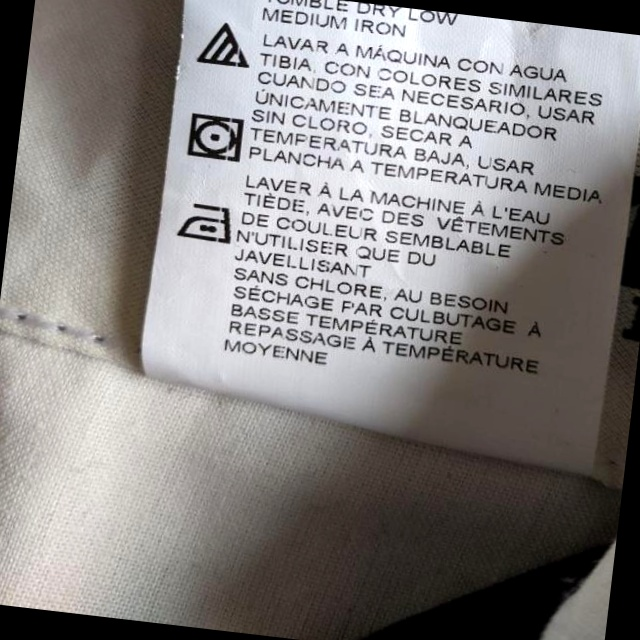iron_medium: (179, 197, 239, 246)
non_chlorine_bleach: (195, 15, 258, 77)
tumble_dry_low: (181, 108, 248, 165)
